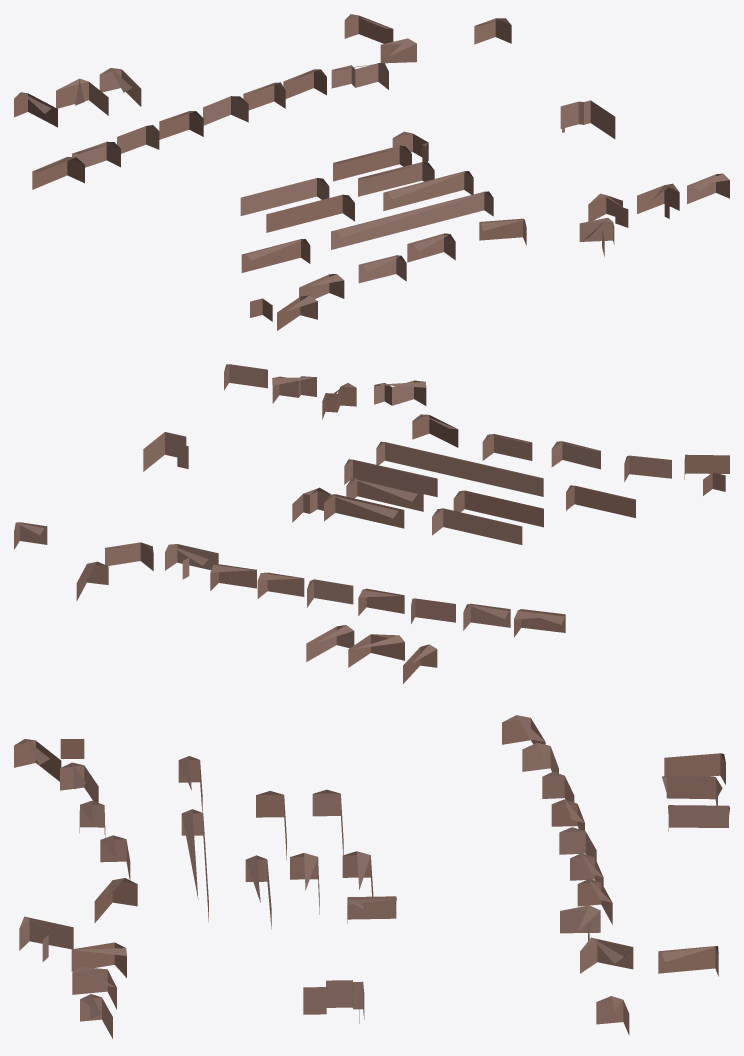
File: c_1645_17835_buildings_residential.glb
3 views of the same model, one above another, from view 1: azimuth 30°, elevation 25°; view 2: azimuth 150°, elevation 25°; view 3: azimuth 270°, elevation 25° (orthographic). The views are drawn at different scales.
Visible parts, largest first — view 1: geometry_0; view 2: geometry_0; view 3: geometry_0.
Boxes of the visible parts, left/top/right/bottom form: geometry_0: left=14, top=14, right=729, bottom=330; geometry_0: left=14, top=364, right=729, bottom=683; geometry_0: left=14, top=715, right=729, bottom=1038.
Bounding box in the file's own units: 260 × 11.08 × 261.
